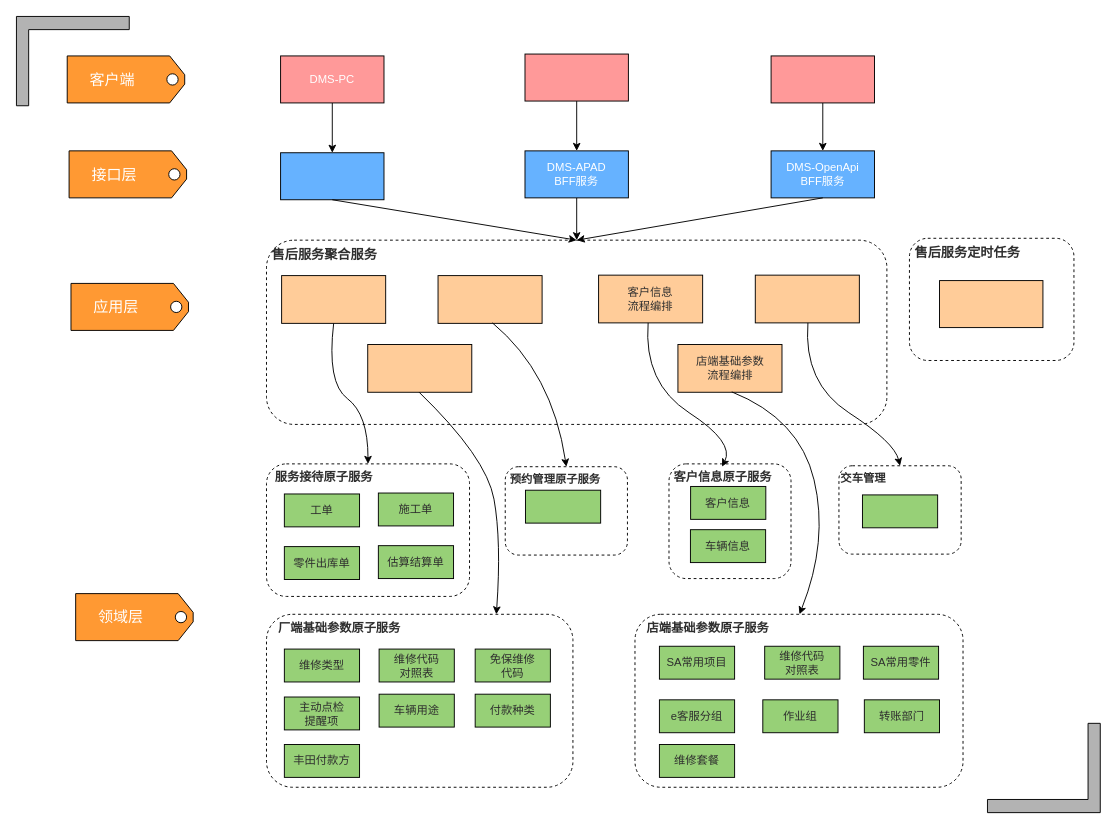
This 1117x829 diagram has some shape labels left out. Each missing label, with the centre of its shape:
DMS-APAD: point 576,77
DMS-PC BFF服务: point 332,176
schedule: point 991,304
交车管理 流程编排: point 806,298
会计结算单: point 900,511
厂端基础参数 流程编排: point 419,368
外部系统: point 822,79
服务接待 流程编排: point 333,299
预约单: point 563,506
预约管理 流程编排: point 489,299
